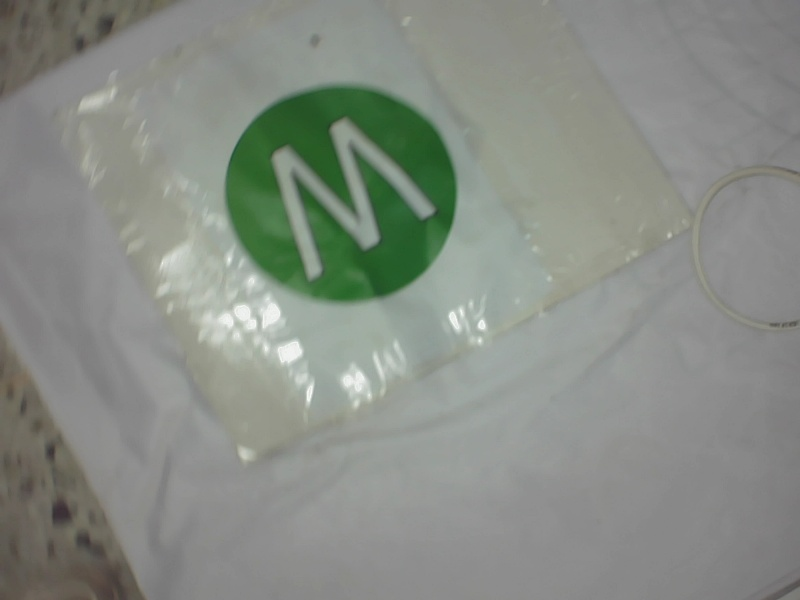areaB: (211, 79, 468, 311)
